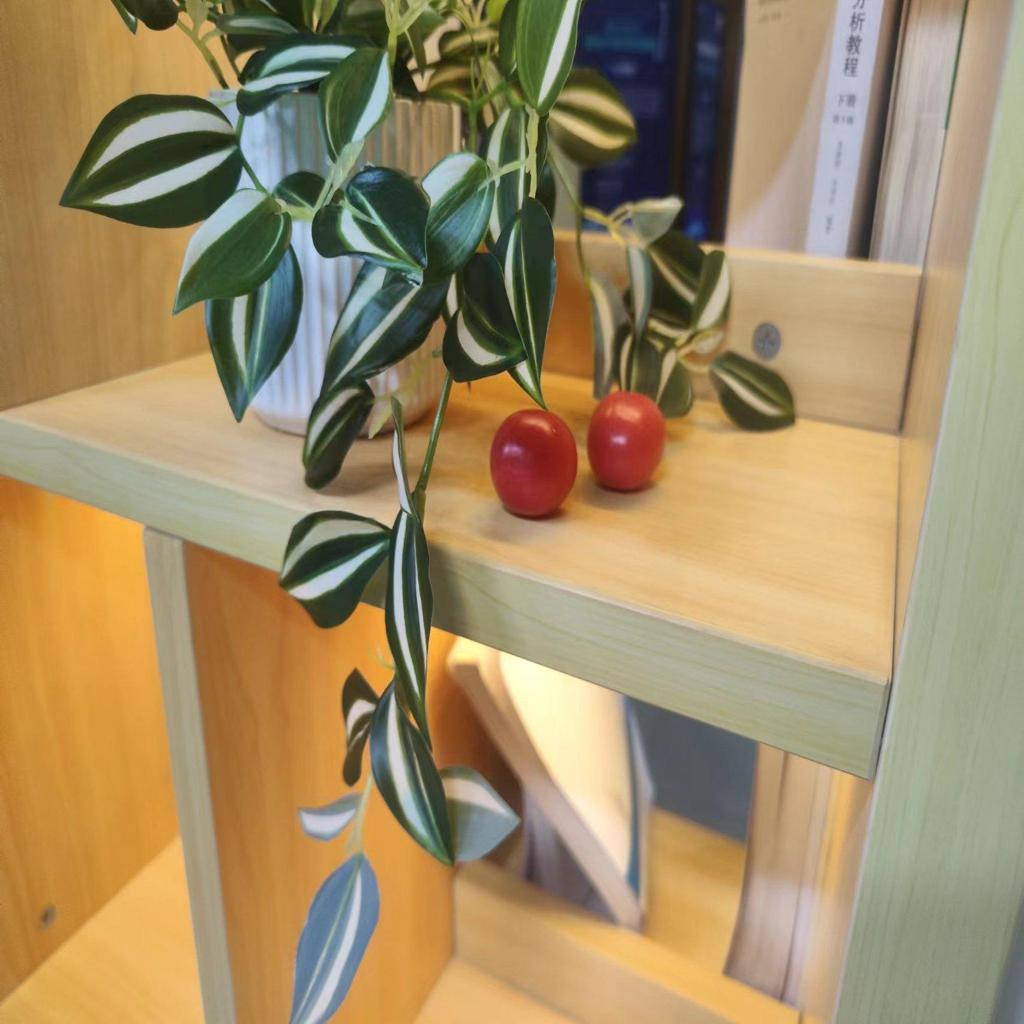tomato: (479, 406, 578, 522), (587, 390, 666, 499)
